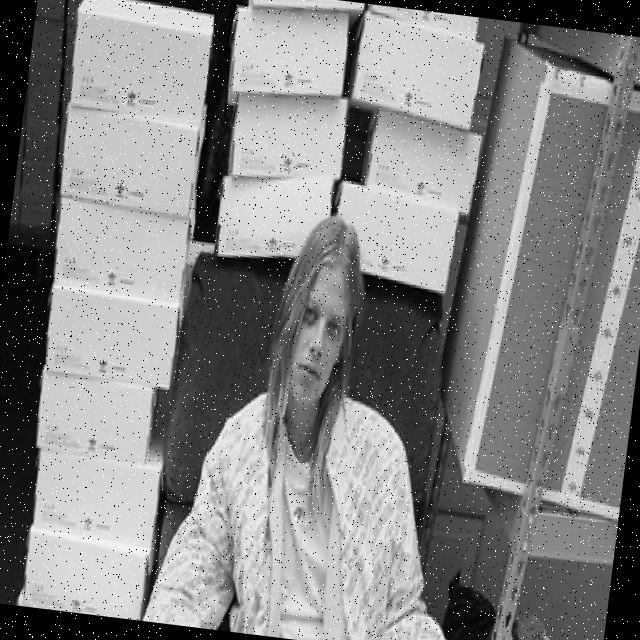Adidas: (559, 471, 588, 515), (614, 221, 640, 261), (286, 494, 317, 527), (577, 399, 607, 432), (603, 272, 631, 307), (593, 315, 620, 350), (568, 435, 596, 467), (584, 358, 609, 390), (408, 174, 434, 199), (276, 146, 298, 175), (66, 587, 91, 612), (108, 176, 131, 203), (120, 85, 141, 114), (401, 82, 420, 113), (103, 262, 120, 293), (377, 246, 396, 272), (84, 432, 103, 458), (632, 116, 640, 175), (282, 65, 299, 91), (265, 228, 283, 252), (96, 353, 112, 376), (627, 176, 640, 203), (82, 510, 95, 535)
